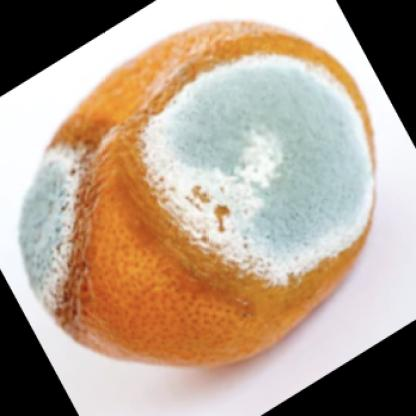rotten: (23, 24, 379, 370)
